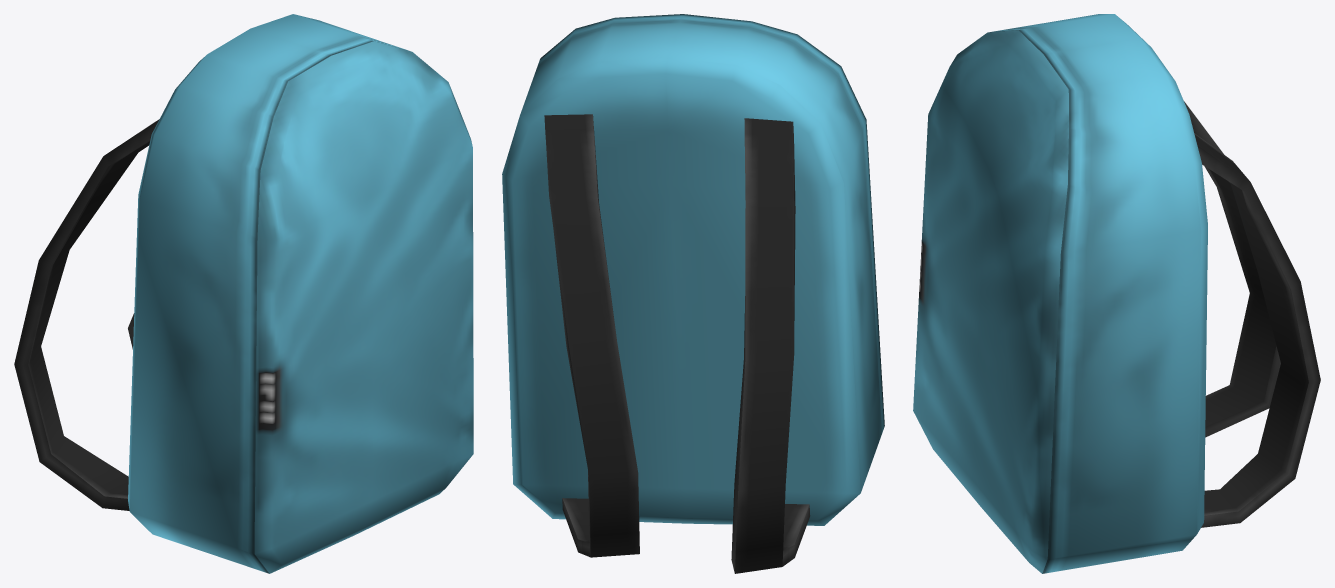
File: TuShuGuan_01_shuangjianbao_01.FBX
The picture shows the model from 3 angles, left to right: view 1: azimuth 30°, elevation 25°; view 2: azimuth 150°, elevation 25°; view 3: azimuth 270°, elevation 25°; orthographic projection.
Parts seen in each view (by area): view 1: TuShuGuan_01_shuangjianbao_01; view 2: TuShuGuan_01_shuangjianbao_01; view 3: TuShuGuan_01_shuangjianbao_01.
Part boxes in pixels (x1,y1,x2,y2): TuShuGuan_01_shuangjianbao_01: [14, 14, 473, 573]; TuShuGuan_01_shuangjianbao_01: [502, 14, 884, 573]; TuShuGuan_01_shuangjianbao_01: [913, 14, 1320, 573].
Bounding box in the file's own units: 180 × 224 × 177.
